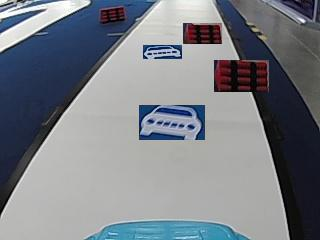bomb: (100, 5, 125, 21)
